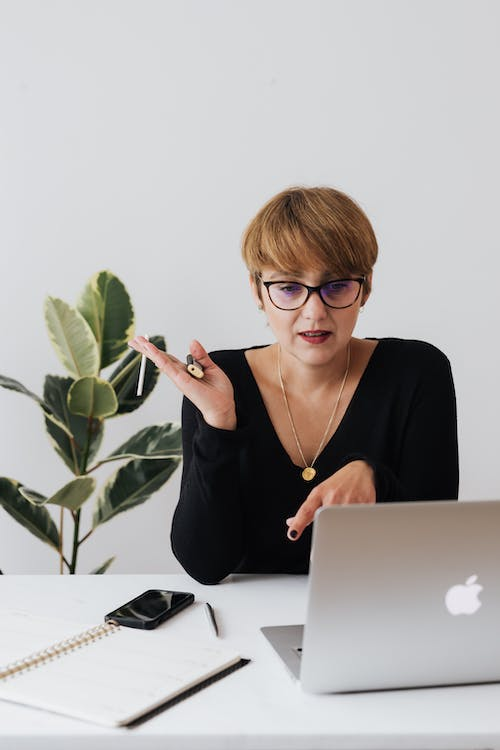cigarette: (134, 331, 152, 398)
